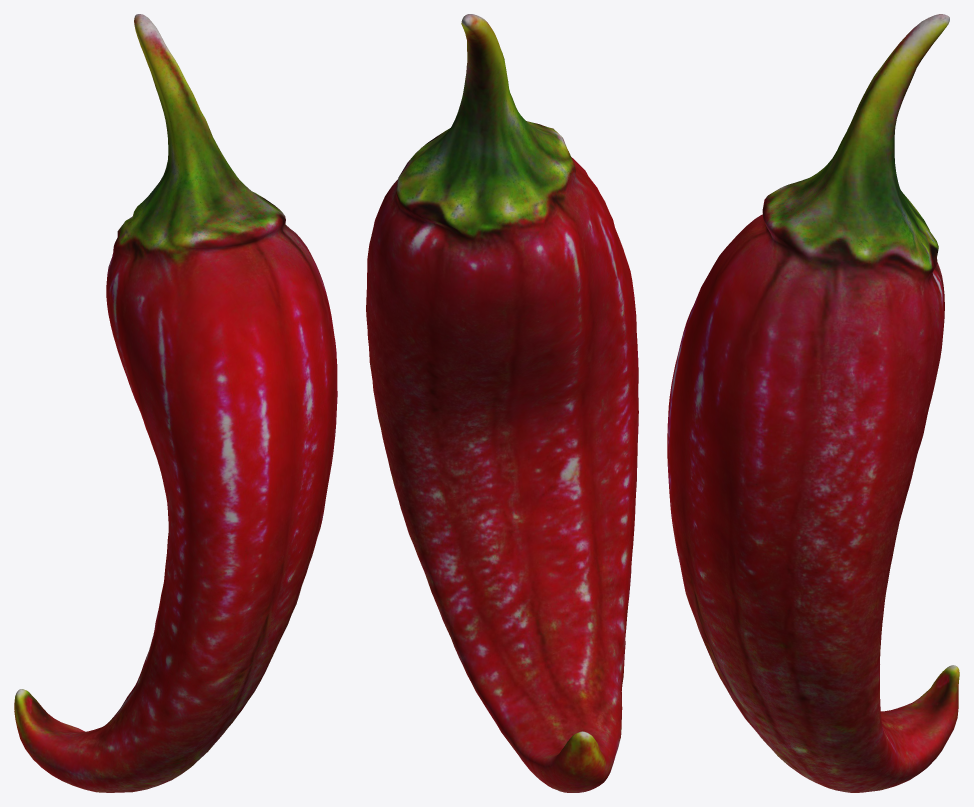
Rendered from Chilli.fbx.
3 renders of one model, left to right at view 1: azimuth 30°, elevation 25°; view 2: azimuth 150°, elevation 25°; view 3: azimuth 270°, elevation 25°, orthographic. The views are drawn at different scales.
Visible parts, largest first — view 1: mesh; view 2: mesh; view 3: mesh.
Boxes of the visible parts, x1=… form: mesh: x1=14, y1=14, x2=337, y2=792; mesh: x1=366, y1=14, x2=638, y2=792; mesh: x1=667, y1=14, x2=959, y2=792.
Size of the model in its own units: 35.93 by 99.89 by 32.92.
